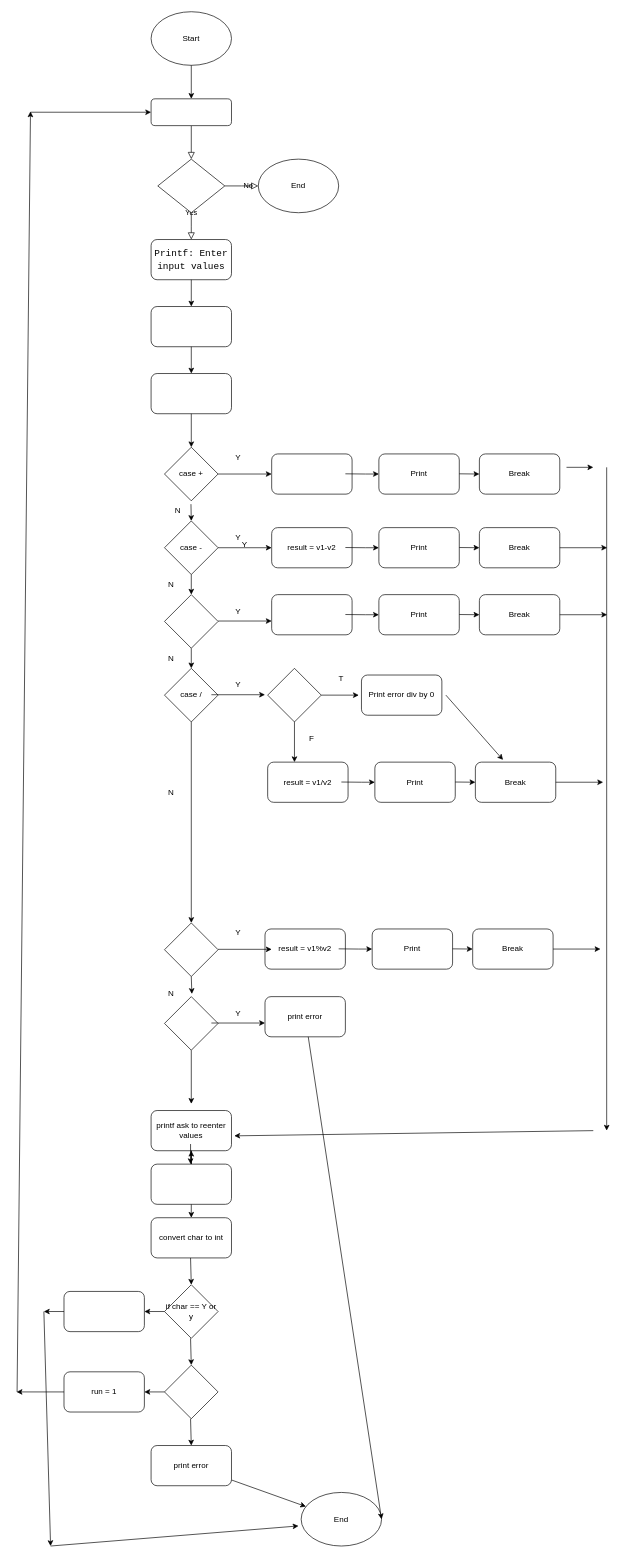
Image size: 624x1563. Some labels were removed from this diagram. The shapes that lost their labels are listed below. From the top down, each one's centre as x and y in pixels, then its label:
At pixel 190 112: "while".
At pixel 191 185: "run == 1".
At pixel 190 326: "Scanf: Input values".
At pixel 190 393: "Switch(operator)".
At pixel 311 473: "result = v1+v2".
At pixel 191 621: "case *".
At pixel 311 614: "result = v1*v2".
At pixel 294 695: "v2 == 0".
At pixel 191 949: "case %".
At pixel 191 1023: "default".
At pixel 190 1183: "scanf".
At pixel 103 1311: "run = 0".
At pixel 191 1391: "if char == N or n".
